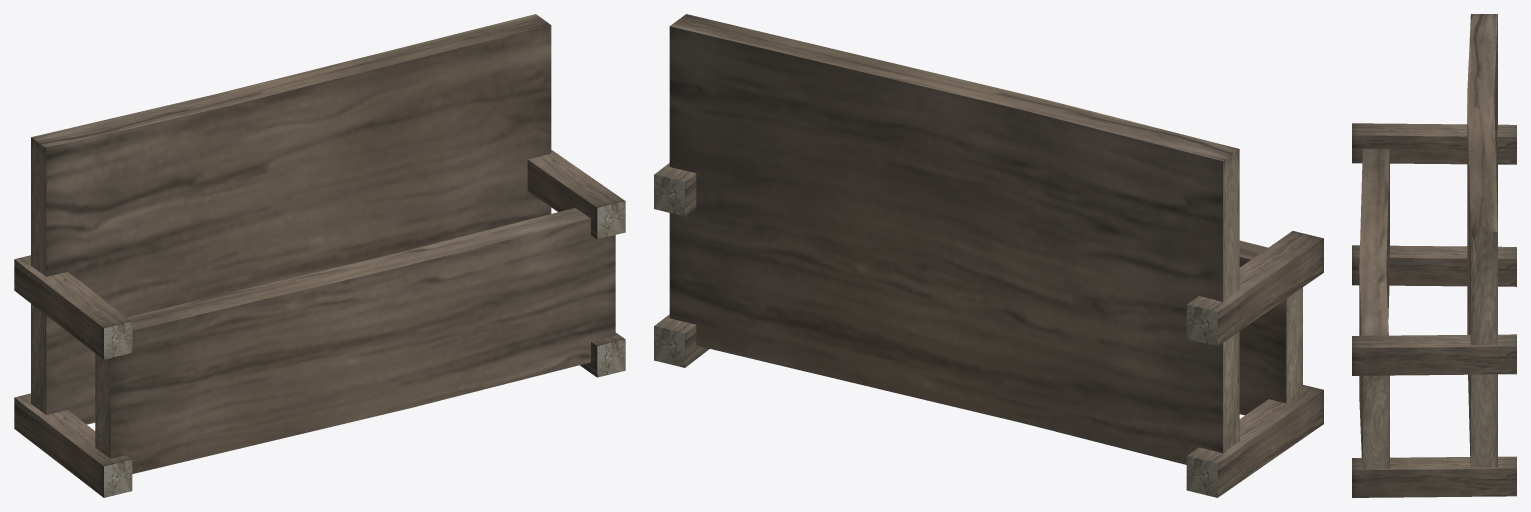
Rendered from Counter_Type_01_C.fbx.
3 renders of one model, left to right at view 1: azimuth 30°, elevation 25°; view 2: azimuth 150°, elevation 25°; view 3: azimuth 270°, elevation 25°, orthographic. The views are drawn at different scales.
Parts seen in each view (by area): view 1: Counter_Type_01_C; view 2: Counter_Type_01_C; view 3: Counter_Type_01_C.
Part boxes in pixels (box(x1,y1,x2,y2)): Counter_Type_01_C: box(14, 14, 625, 497); Counter_Type_01_C: box(654, 14, 1323, 497); Counter_Type_01_C: box(1352, 14, 1516, 497).
Size of the model in its own units: 3.37 by 1.84 by 1.04.
